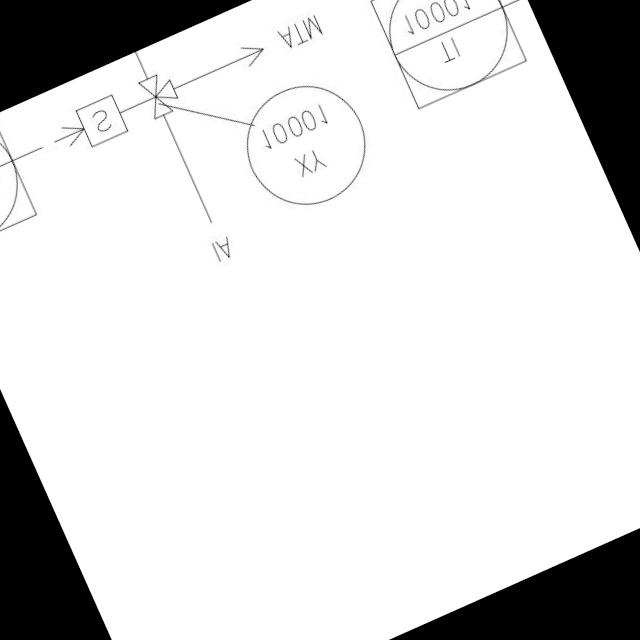3W: (134, 60, 191, 123)
